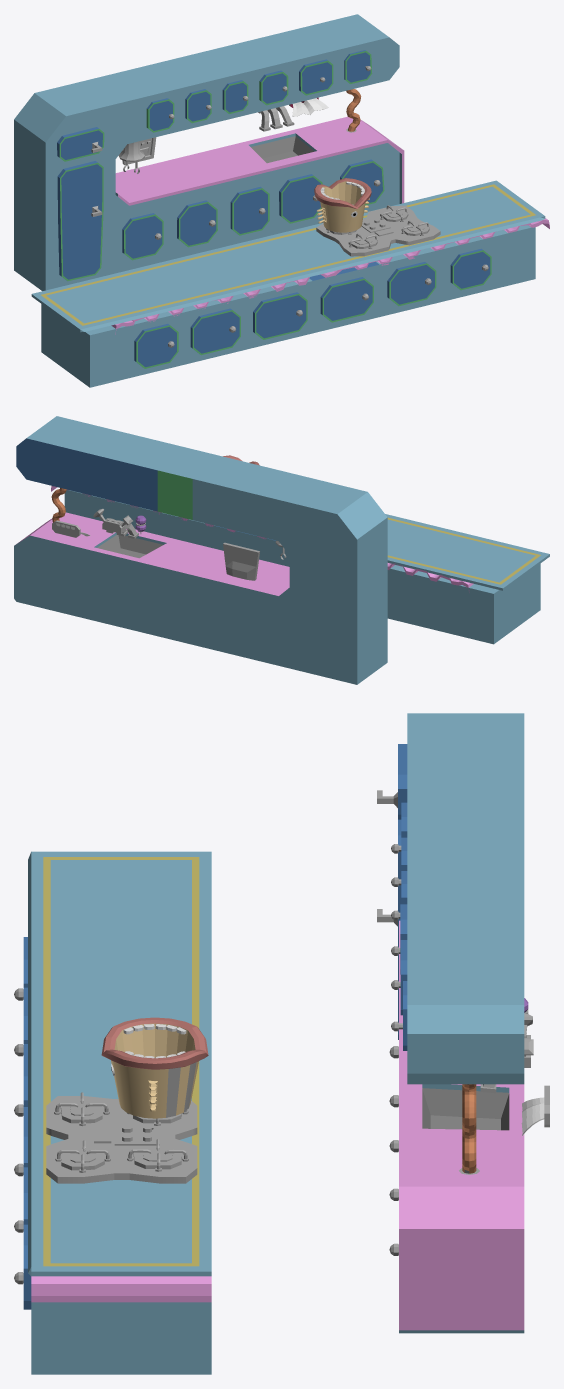
File: KitchenBlockoutPV.fbx
3 views of the same model, one above another, from view 1: azimuth 30°, elevation 25°; view 2: azimuth 150°, elevation 25°; view 3: azimuth 270°, elevation 25° (orthographic). The views are drawn at different scales.
Parts seen in each view (by area): view 1: pCube12, pCube13, pCube17, pCube18, pCylinder23, pCube16, pCube5; view 2: pCube12, pCube13, pCube17, pCube4, pCube5, pCube16, pCube6; view 3: pCube12, pCube17, pCube13, pCube18, pCylinder23, pCube16, pCylinder6.
Boxes of the visible parts, bbox=[...] form: pCube12: bbox=[14, 14, 404, 291]; pCube13: bbox=[41, 225, 535, 387]; pCube17: bbox=[31, 180, 545, 332]; pCube18: bbox=[316, 205, 440, 256]; pCylinder23: bbox=[314, 178, 371, 232]; pCube16: bbox=[111, 218, 549, 334]; pCube5: bbox=[258, 106, 294, 131]; pCube12: bbox=[14, 416, 387, 684]; pCube13: bbox=[64, 490, 540, 644]; pCube17: bbox=[385, 514, 549, 590]; pCube4: bbox=[223, 542, 259, 580]; pCube5: bbox=[93, 508, 138, 538]; pCube16: bbox=[51, 486, 473, 592]; pCube6: bbox=[52, 520, 80, 537]; pCube12: bbox=[398, 713, 524, 1333]; pCube17: bbox=[28, 851, 211, 1276]; pCube13: bbox=[23, 937, 211, 1374]; pCube18: bbox=[46, 1096, 197, 1183]; pCylinder23: bbox=[101, 1017, 208, 1118]; pCube16: bbox=[31, 1276, 211, 1302]; pCylinder6: bbox=[459, 1084, 479, 1174].
Size of the model in its own units: 66.65 by 24.44 by 35.61.
